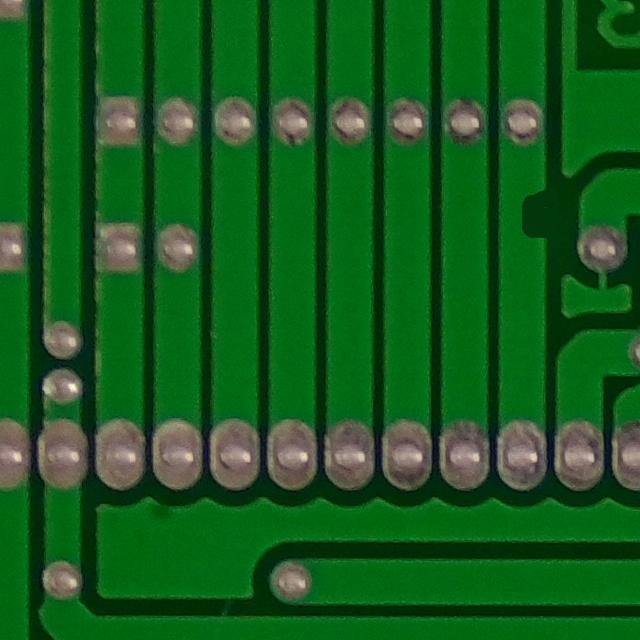mouse_bite: (491, 175, 566, 255)
